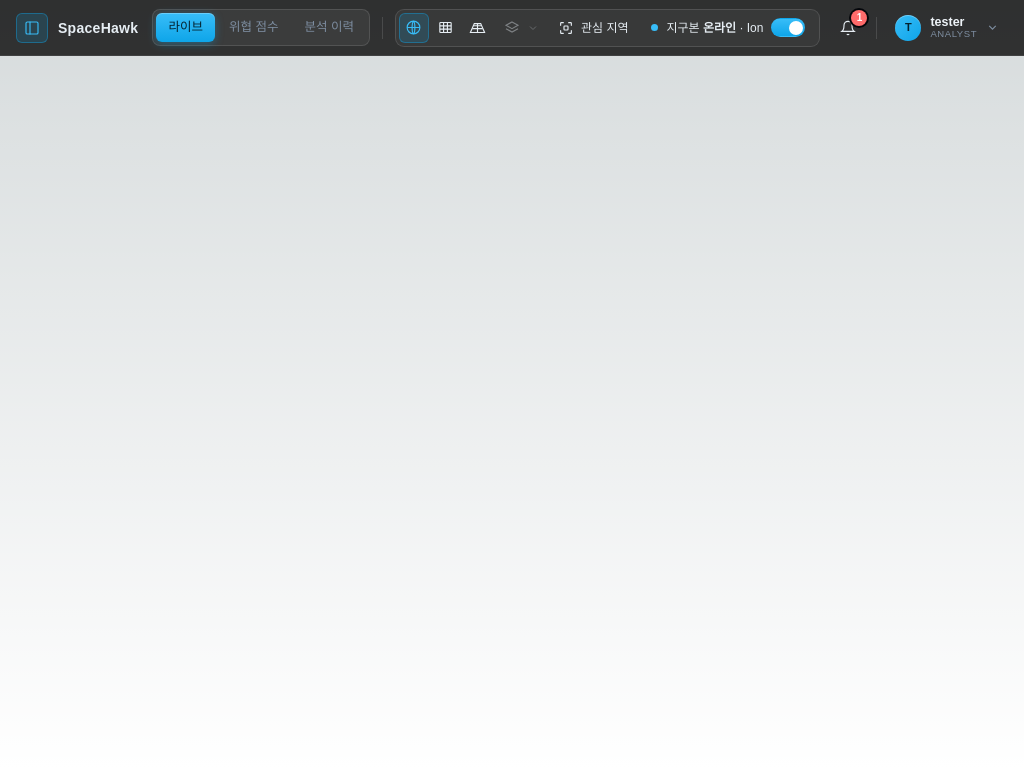
Test: Header notification bell › opens the dropdown without throwing and shows the watchlist category tab
Click the button named "알림": x=848, y=28 [832, 12, 864, 42]
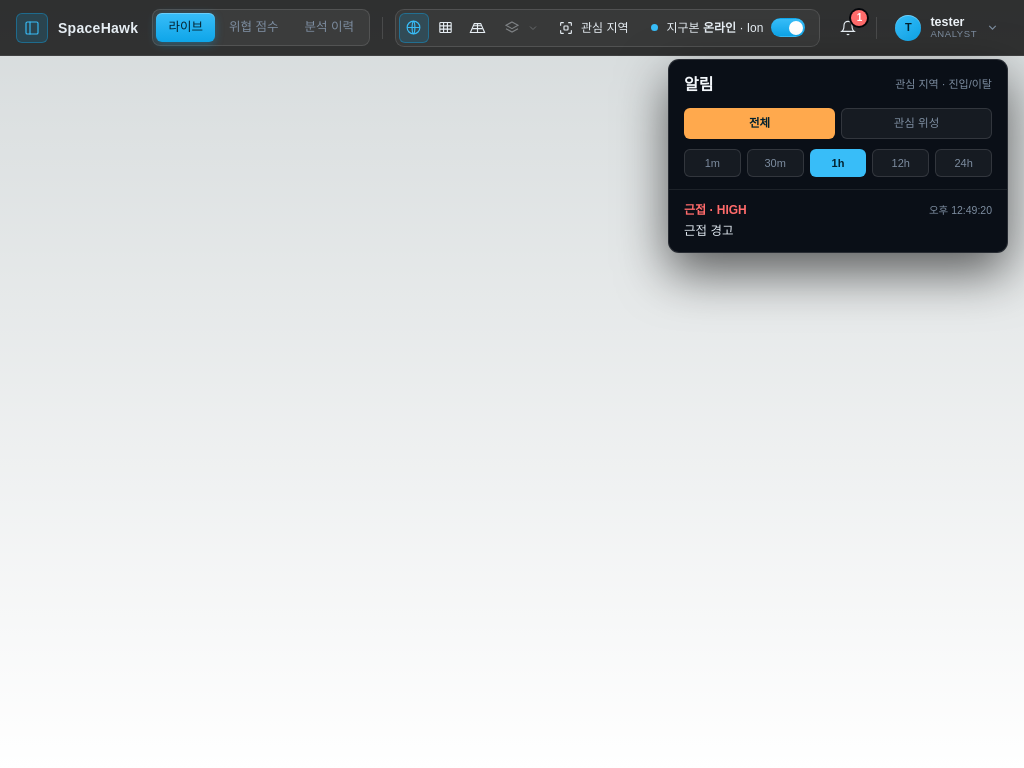
Check: the button "전체" is shown, box [684, 108, 835, 139]
Check: the button "관심 위성" is shown, box [841, 108, 992, 139]
